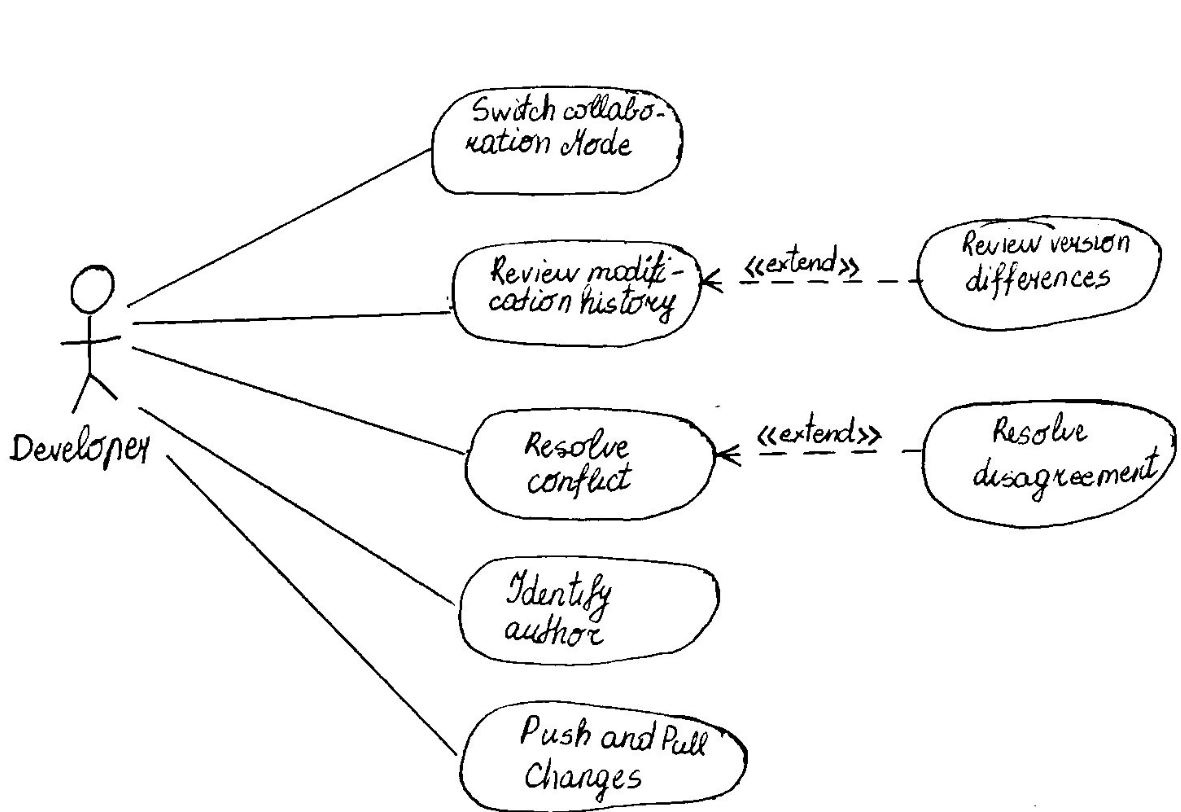actor: (57, 258, 127, 417)
association: (165, 452, 453, 755), (137, 402, 456, 606), (126, 148, 427, 314), (129, 341, 463, 455), (129, 299, 449, 337), (702, 265, 920, 296), (715, 437, 923, 468)
text: (512, 709, 716, 804), (964, 412, 1162, 497), (466, 90, 664, 170), (484, 248, 682, 328), (955, 228, 1136, 301), (488, 565, 618, 655), (515, 418, 647, 502), (11, 425, 151, 472), (748, 408, 894, 448), (742, 241, 867, 279)
use_case: (922, 398, 1181, 530), (459, 698, 747, 812), (918, 213, 1166, 337), (457, 552, 721, 666), (465, 406, 717, 525), (429, 83, 683, 194), (450, 238, 702, 349)
